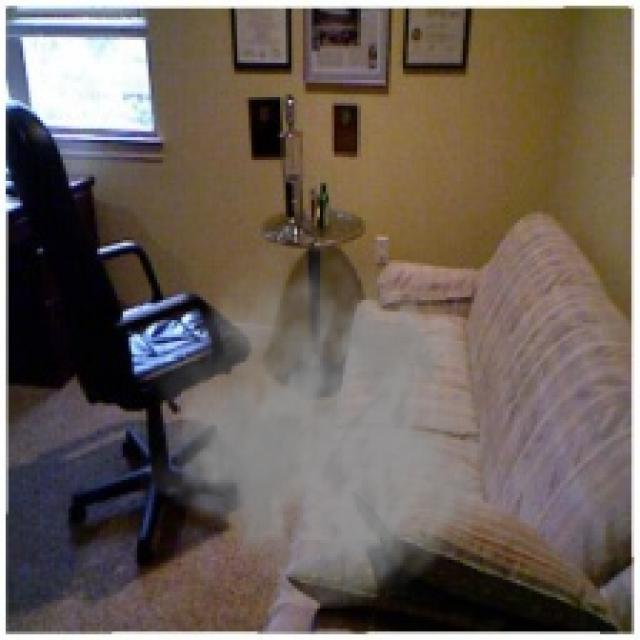smoke: (140, 226, 506, 611)
